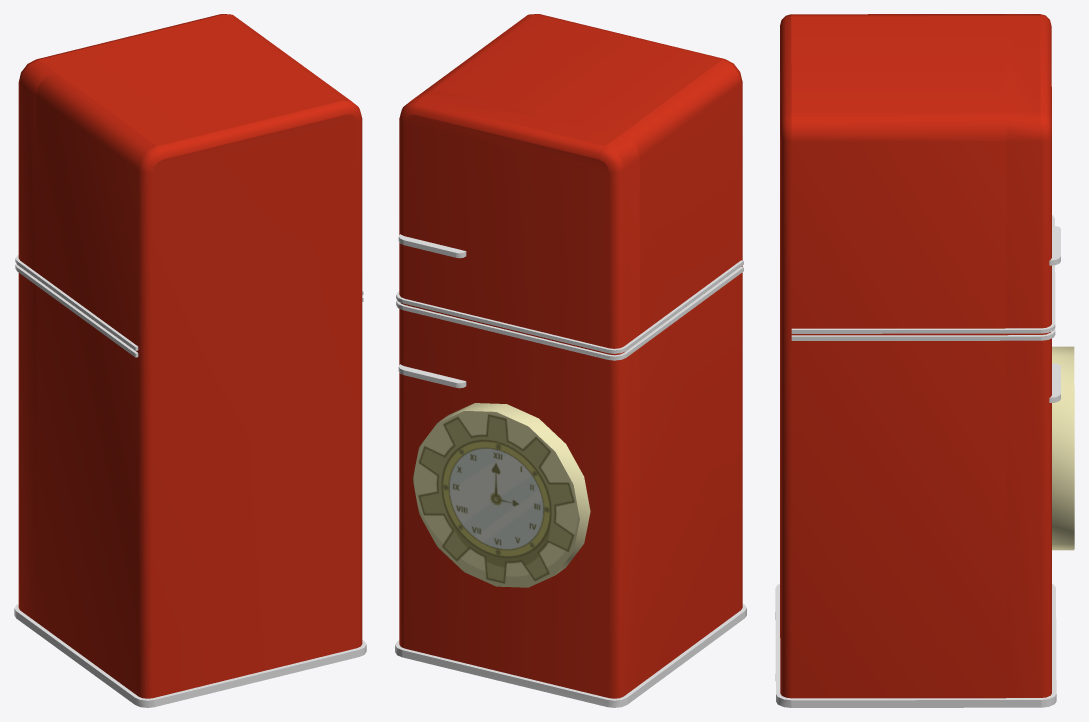
Rendered from Fridge.fbx.
3 renders of one model, left to right at view 1: azimuth 30°, elevation 25°; view 2: azimuth 150°, elevation 25°; view 3: azimuth 270°, elevation 25°, orthographic. The views are drawn at different scales.
Visible parts, largest first — view 1: Body, Door; view 2: Door, Body; view 3: Body, Door.
Boxes of the visible parts, left/top/right/bottom form: Body: left=32, top=26, right=366, bottom=707; Door: left=14, top=14, right=248, bottom=629; Door: left=395, top=89, right=643, bottom=707; Body: left=427, top=14, right=746, bottom=692; Body: left=775, top=14, right=1006, bottom=707; Door: left=1006, top=14, right=1074, bottom=707.
Size of the model in its own units: 124 by 285 by 132.
1 material, 1 textured.
